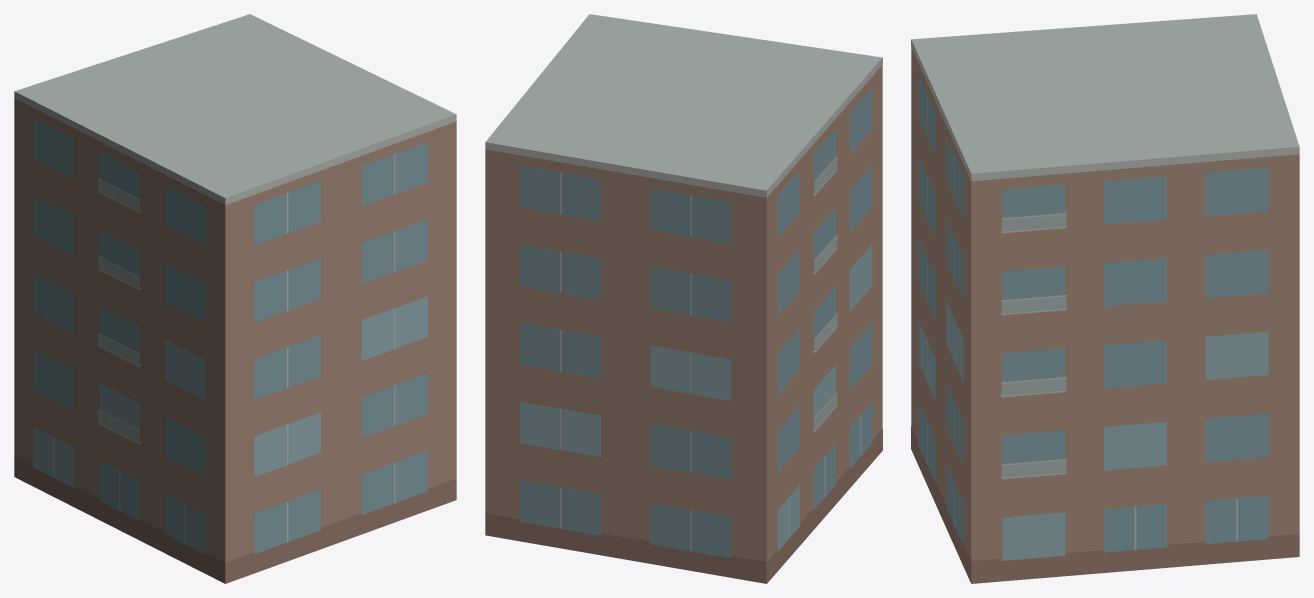
File: survey-upis-33041397.glb
3 renders of one model, left to right at view 1: azimuth 30°, elevation 25°; view 2: azimuth 150°, elevation 25°; view 3: azimuth 270°, elevation 25°, orthographic. The views are drawn at different scales.
Visible parts, largest first — view 1: survey-upis-33041397.tmp; view 2: survey-upis-33041397.tmp; view 3: survey-upis-33041397.tmp.
Boxes of the visible parts, x1,y1,x2,y2 form: survey-upis-33041397.tmp: (14, 14, 456, 583); survey-upis-33041397.tmp: (485, 14, 882, 583); survey-upis-33041397.tmp: (911, 14, 1299, 583).
Size of the model in its own units: 11.21 by 13.4 by 11.51.
